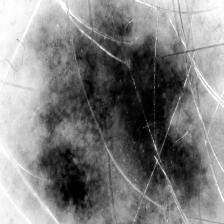Benign Marking or Mole: (27, 19, 203, 219)
